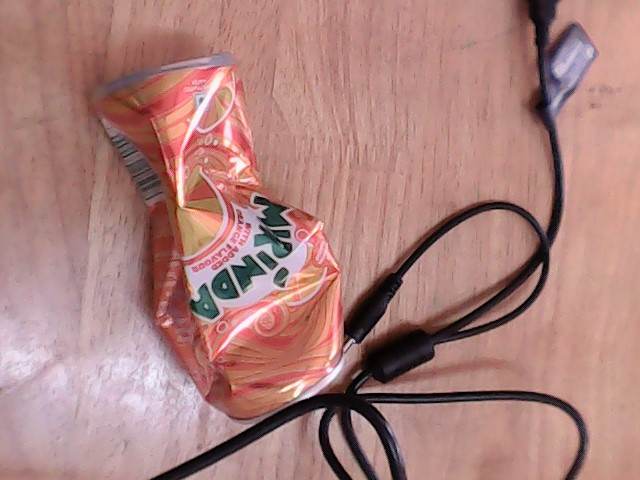Metal: (91, 83, 339, 402)
